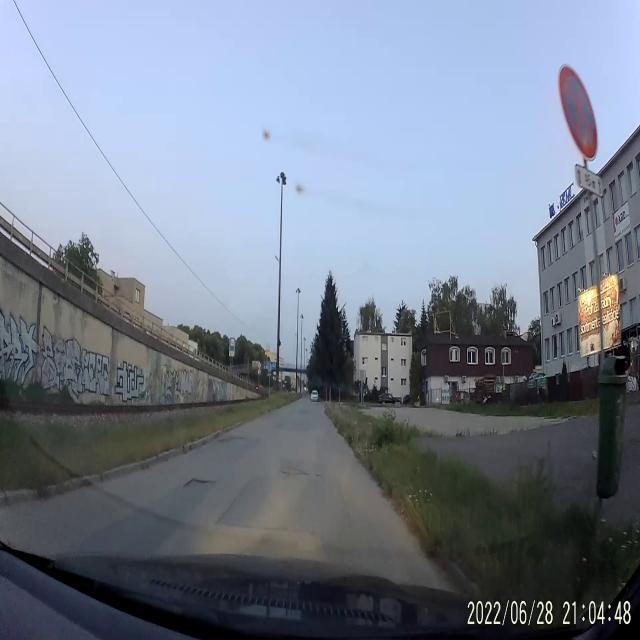Pothole: (182, 472, 215, 490), (280, 462, 309, 481), (212, 435, 238, 443)
